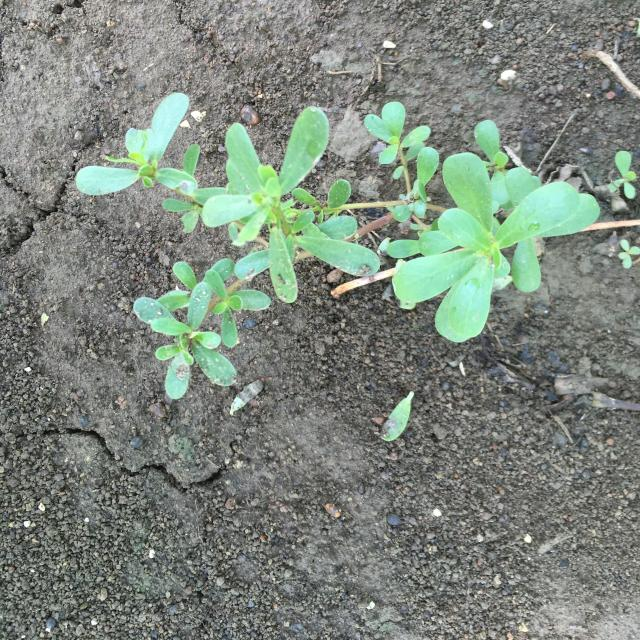Purslane: (75, 93, 601, 400)
